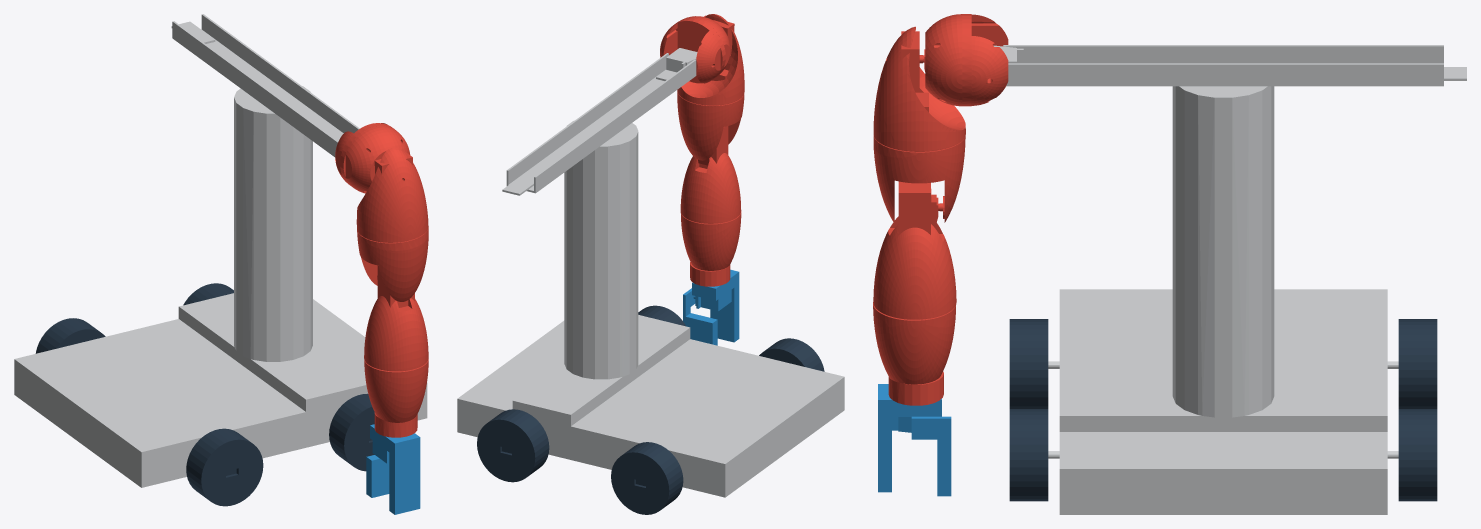
Rendered from ardop.dae.
The picture shows the model from 3 angles, left to right: view 1: azimuth 30°, elevation 25°; view 2: azimuth 150°, elevation 25°; view 3: azimuth 270°, elevation 25°; orthographic projection. The views are drawn at different scales.
Parts seen in each view (by area): view 1: base_link, upper_1_link, wheel_back_right_link, lower_1_link, lower_2_link, upper_2_link, shoulder_1_link, lower_3_link, wheel_front_right_link, wheel_back_left_link, end_effector_link, wheel_front_left_link; view 2: base_link, wheel_front_left_link, wheel_back_left_link, lower_1_link, lower_2_link, shoulder_1_link, upper_2_link, upper_1_link, lower_3_link, wheel_back_right_link, end_effector_link, wheel_front_right_link; view 3: base_link, lower_1_link, upper_1_link, shoulder_1_link, lower_2_link, upper_2_link, wheel_front_left_link, wheel_front_right_link, wheel_back_left_link, wheel_back_right_link, lower_3_link, end_effector_link.
Boxes of the visible parts, <box> form: base_link: <box>14,14,427,487</box>; upper_1_link: <box>356,147,428,242</box>; wheel_back_right_link: <box>186,428,263,506</box>; lower_1_link: <box>364,265,428,371</box>; lower_2_link: <box>364,359,428,437</box>; upper_2_link: <box>357,227,428,301</box>; shoulder_1_link: <box>335,123,410,193</box>; lower_3_link: <box>370,424,420,514</box>; wheel_front_right_link: <box>329,393,374,471</box>; wheel_back_left_link: <box>35,318,105,353</box>; end_effector_link: <box>366,455,389,497</box>; wheel_front_left_link: <box>183,283,233,305</box>; base_link: <box>457,48,844,497</box>; wheel_front_left_link: <box>477,409,549,482</box>; wheel_back_left_link: <box>611,442,683,514</box>; lower_1_link: <box>680,126,741,223</box>; lower_2_link: <box>680,211,741,286</box>; shoulder_1_link: <box>660,16,730,83</box>; upper_2_link: <box>677,92,744,160</box>; upper_1_link: <box>677,14,744,105</box>; lower_3_link: <box>692,269,739,342</box>; wheel_back_right_link: <box>759,338,824,371</box>; end_effector_link: <box>683,288,717,345</box>; wheel_front_right_link: <box>638,305,690,338</box>; base_link: <box>993,45,1466,514</box>; lower_1_link: <box>873,181,956,319</box>; upper_1_link: <box>873,26,965,151</box>; shoulder_1_link: <box>923,14,1008,106</box>; lower_2_link: <box>873,302,955,405</box>; upper_2_link: <box>873,136,965,223</box>; wheel_front_left_link: <box>1398,409,1437,501</box>; wheel_front_right_link: <box>1009,409,1048,501</box>; wheel_back_left_link: <box>1398,319,1437,408</box>; wheel_back_right_link: <box>1009,319,1048,408</box>; lower_3_link: <box>878,384,941,492</box>; end_effector_link: <box>911,416,951,496</box>.
Bounding box in the file's own units: 0.46 × 0.6428 × 0.5572.
